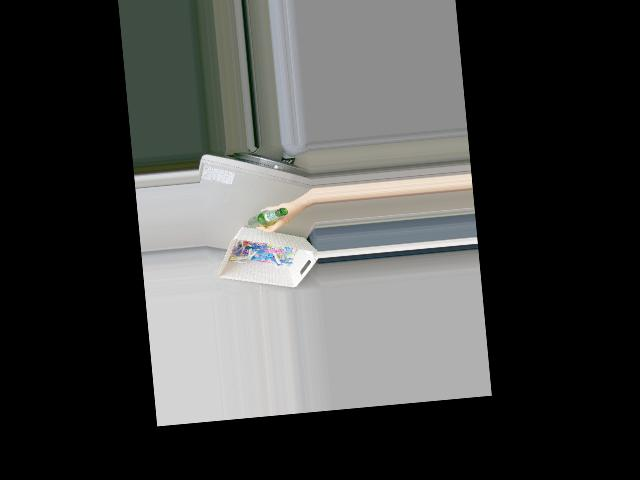beer: (247, 207, 289, 229)
